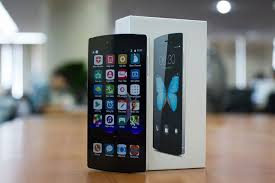bphone: (86, 32, 149, 174)
